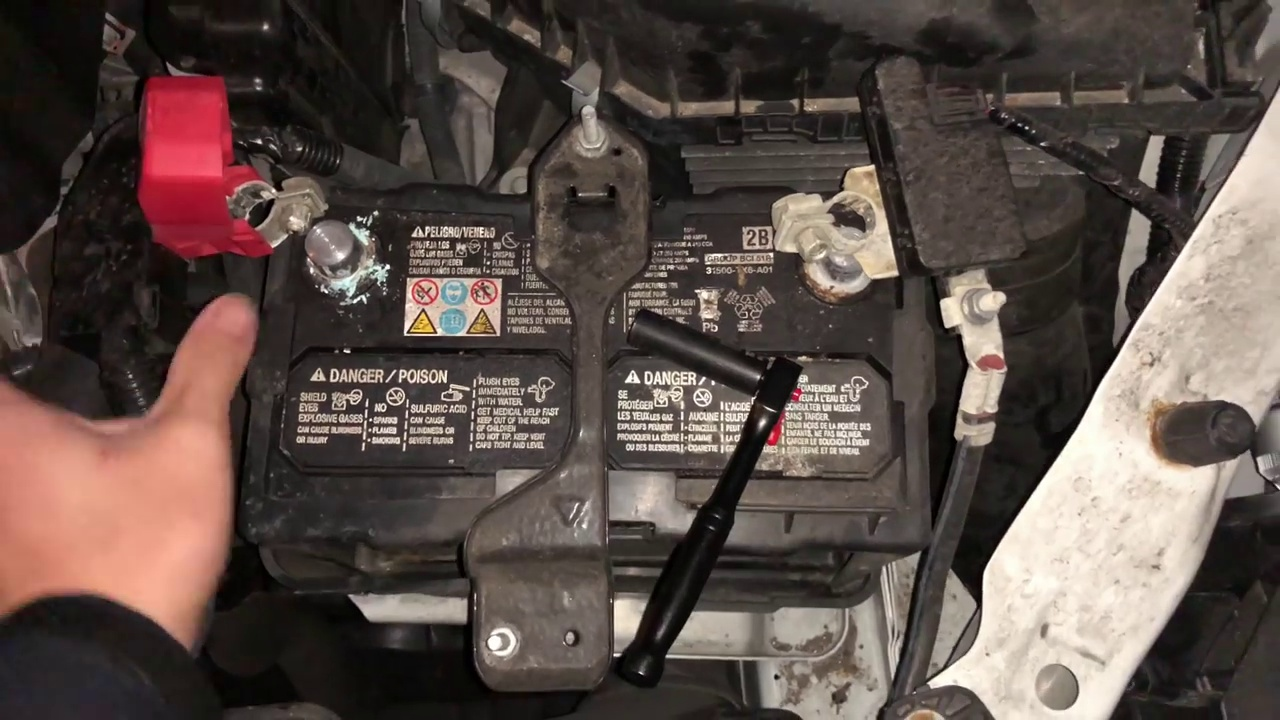battery: (242, 179, 921, 542)
neg_disconnected: (757, 171, 901, 307)
pos_disconnected: (137, 100, 403, 299)
